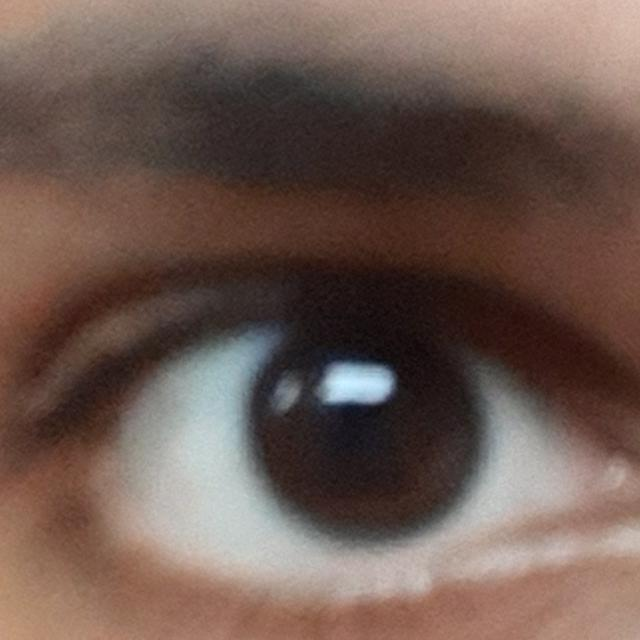eye: (92, 315, 583, 584)
iris: (251, 326, 485, 549)
